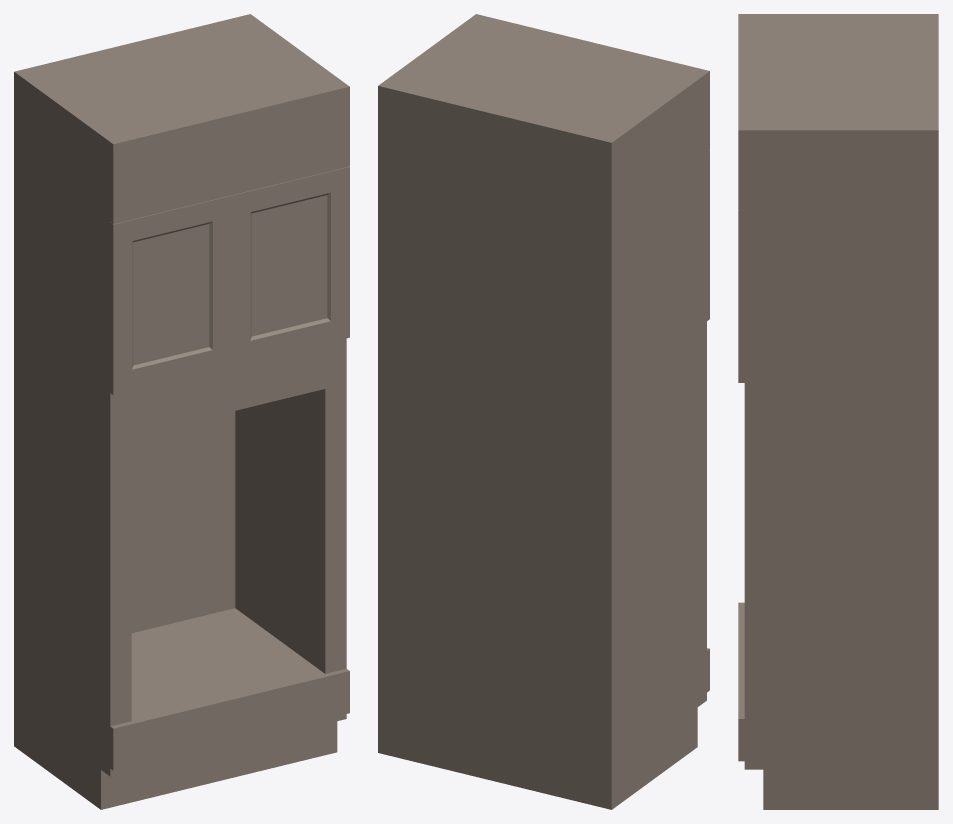
Rendered from WHP-Double-Tall-Oven-Cabinet_std_001_H90in_onlyH.glb.
3 renders of one model, left to right at view 1: azimuth 30°, elevation 25°; view 2: azimuth 150°, elevation 25°; view 3: azimuth 270°, elevation 25°, orthographic.
Parts seen in each view (by area): view 1: WHP-Double-Tall-Oven-Cabinet.std.001_H90in_onlyH; view 2: WHP-Double-Tall-Oven-Cabinet.std.001_H90in_onlyH; view 3: WHP-Double-Tall-Oven-Cabinet.std.001_H90in_onlyH.
Part boxes in pixels (left/top/right/bottom): WHP-Double-Tall-Oven-Cabinet.std.001_H90in_onlyH: left=14, top=14, right=349, bottom=809; WHP-Double-Tall-Oven-Cabinet.std.001_H90in_onlyH: left=378, top=14, right=709, bottom=809; WHP-Double-Tall-Oven-Cabinet.std.001_H90in_onlyH: left=738, top=14, right=938, bottom=809.
Size of the model in its own units: 0.8382 by 2.29 by 0.6096.
